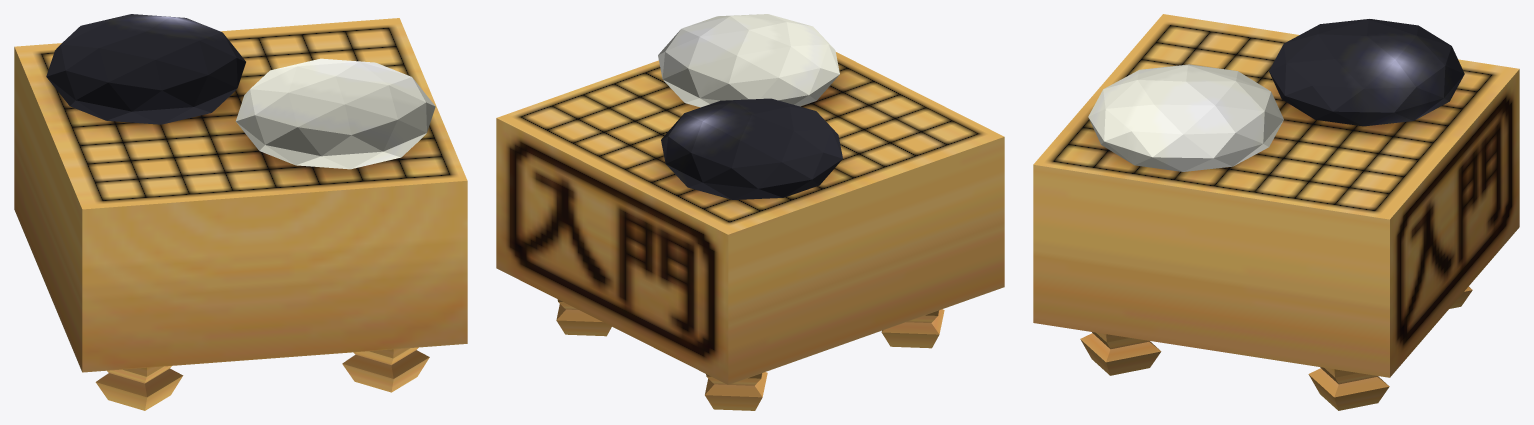
The model's file is icon1.ico.obj.
3 views of the same model, side by side, from view 1: azimuth 30°, elevation 25°; view 2: azimuth 150°, elevation 25°; view 3: azimuth 270°, elevation 25° (orthographic). The views are drawn at different scales.
Bounding box in the file's own units: 3.56 × 2.27 × 3.56.
Materials: 1 (1 with a texture image).
